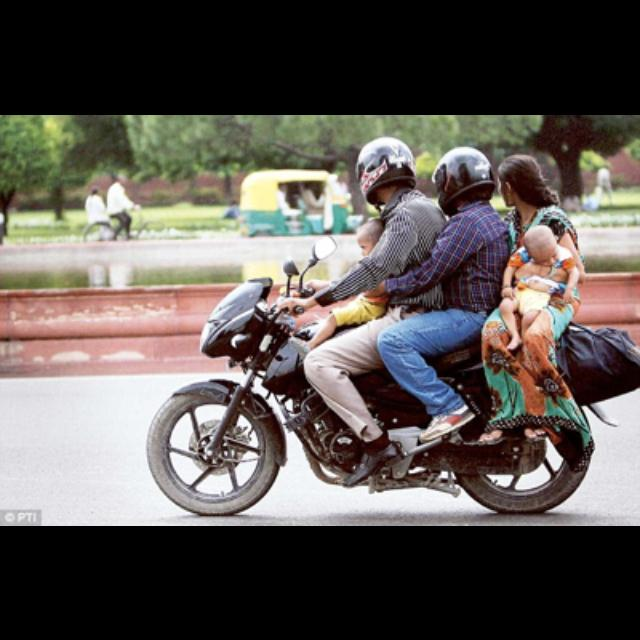With Helmet: (347, 130, 419, 200), (428, 144, 497, 208)
